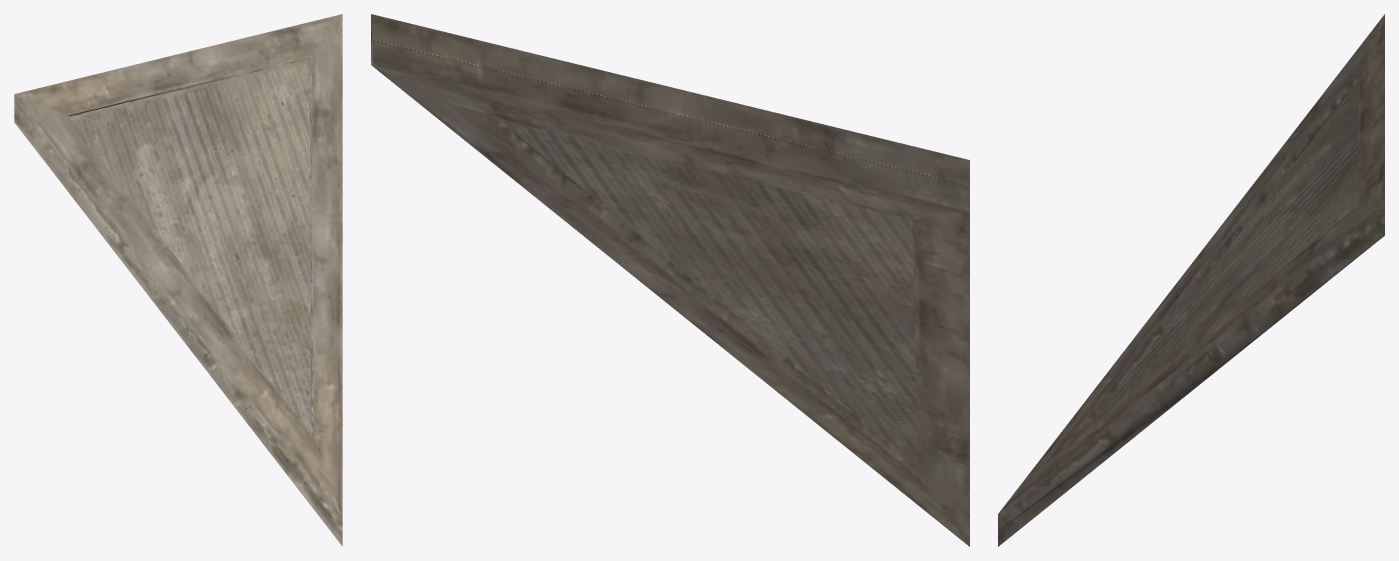
Rendered from roof.triangle.brutalist.down.glb.
The picture shows the model from 3 angles, left to right: view 1: azimuth 30°, elevation 25°; view 2: azimuth 150°, elevation 25°; view 3: azimuth 270°, elevation 25°; orthographic projection. The views are drawn at different scales.
Parts seen in each view (by area): view 1: model; view 2: model; view 3: model.
Boxes of the visible parts, bbox=[...] form: model: bbox=[14, 14, 342, 546]; model: bbox=[371, 14, 969, 546]; model: bbox=[998, 14, 1384, 546].
Size of the model in its own units: 3 by 3.25 by 2.6.
1 material, 1 textured.
